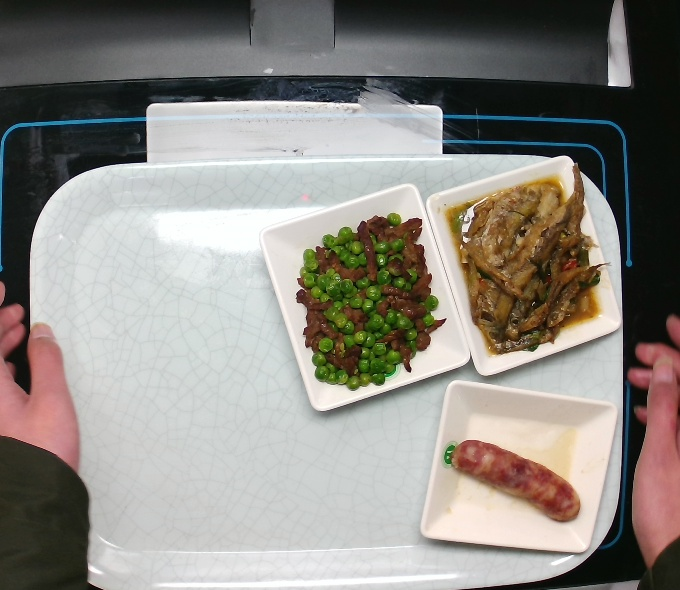wcq-CanDouNiuRou: (296, 210, 445, 392)
wcq-XiangChang: (442, 429, 589, 527)
wcq-XiaoJiYu: (455, 186, 602, 355)
